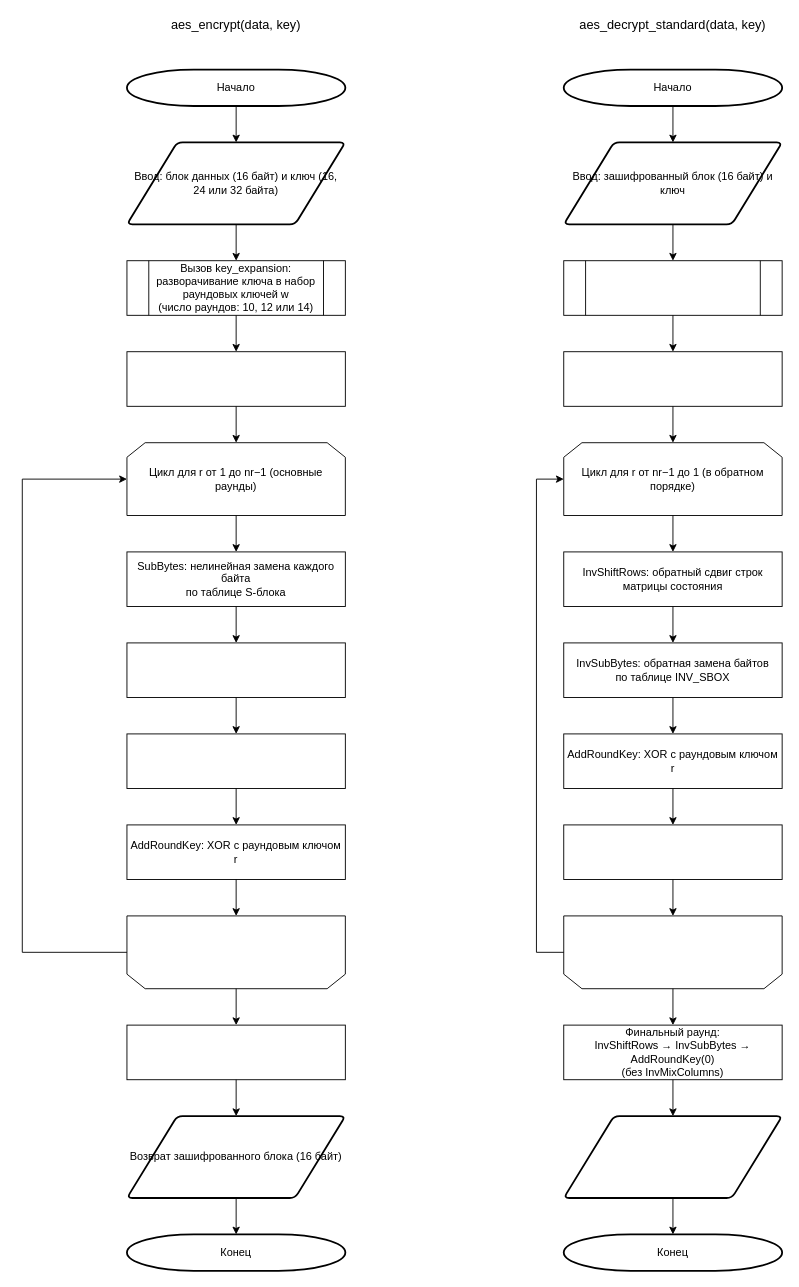
Image size: 799x1287. Some labels were removed from this diagram. Here are the shapes that lost their labels. From the top down, the centre of each, then its label:
At (x=672, y=287): "Вызов key_expansion: разворачивание ключа → w, nr".
At (x=235, y=378): "AddRoundKey: XOR блока с нулевым раундовым ключом (начальное наложение ключа)".
At (x=672, y=378): "AddRoundKey: XOR с последним раундовым ключом (начало расшифрования)".
At (x=235, y=670): "ShiftRows: циклический сдвиг каждой строки матрицы состояния".
At (x=235, y=761): "MixColumns: линейное перемешивание столбцов в конечном поле GF(2⁸)".
At (x=672, y=852): "InvMixColumns: обратное перемешивание столбцов".
At (x=235, y=1052): "Финальный раунд: SubBytes → ShiftRows → AddRoundKey(nr) (без MixColumns)".
At (x=672, y=1156): "Возврат расшифрованного блока (16 байт)".
